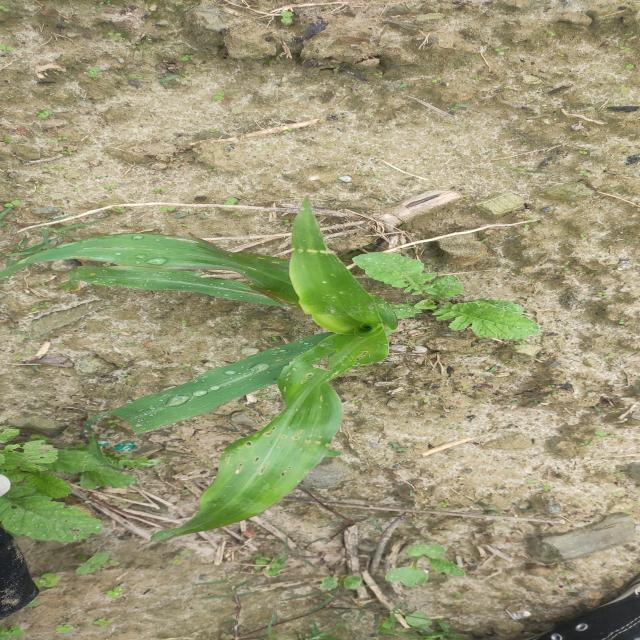maize: (111, 200, 465, 534)
weed: (0, 399, 174, 561), (344, 233, 555, 357), (246, 542, 489, 588), (389, 606, 531, 640)
